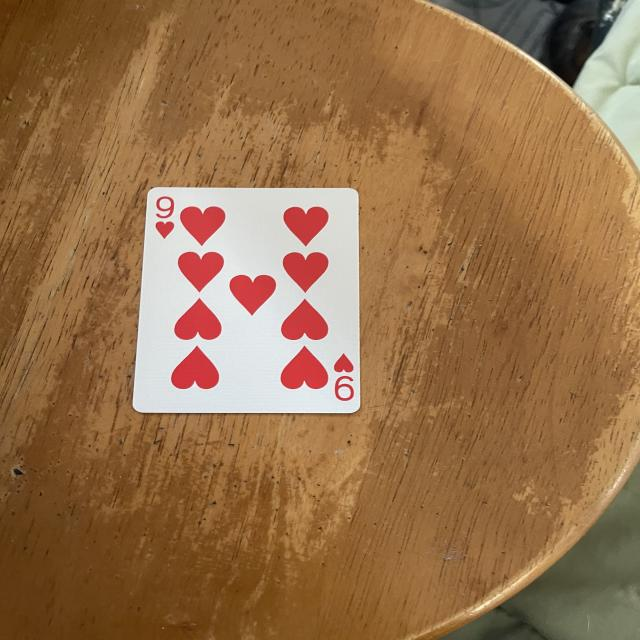9 of hearts: (132, 187, 362, 419)
